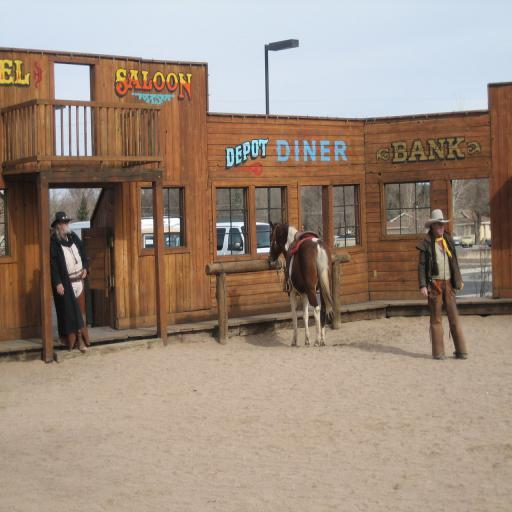Horse: (270, 219, 336, 349)
